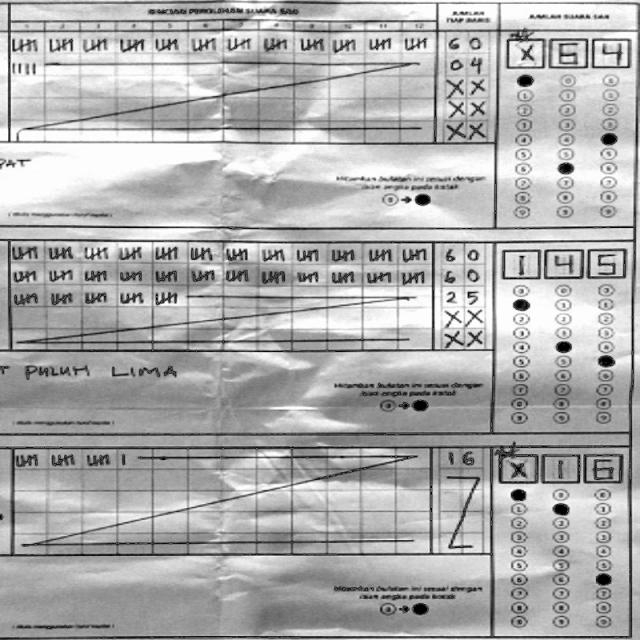Suara: (502, 32, 637, 72), (496, 244, 630, 284), (493, 447, 627, 487)
